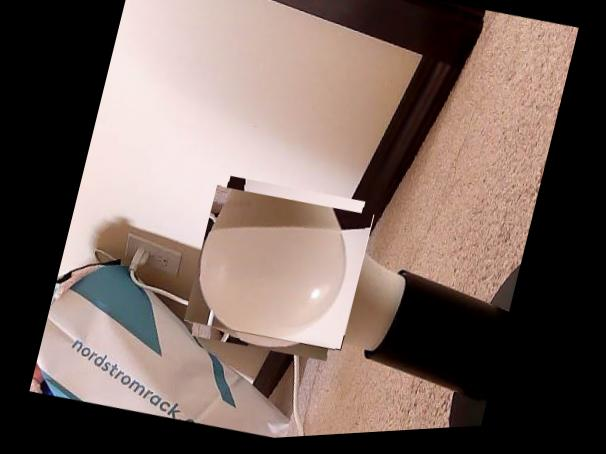Fan: (186, 175, 370, 366)
